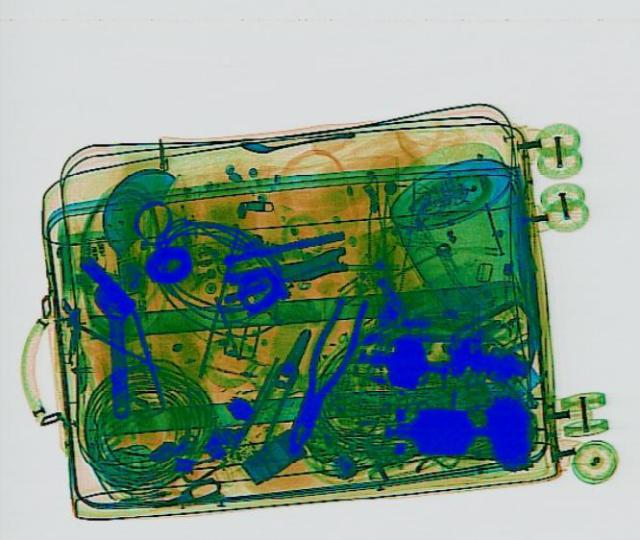Pliers: (270, 291, 374, 454), (228, 322, 322, 455)
Wrench: (90, 279, 140, 416)
